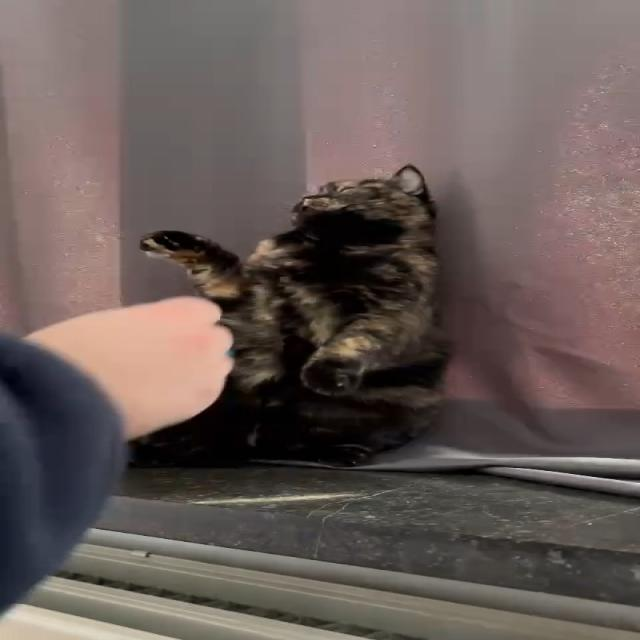authorized: (128, 163, 452, 469)
